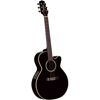guitar: (30, 1, 69, 99)
